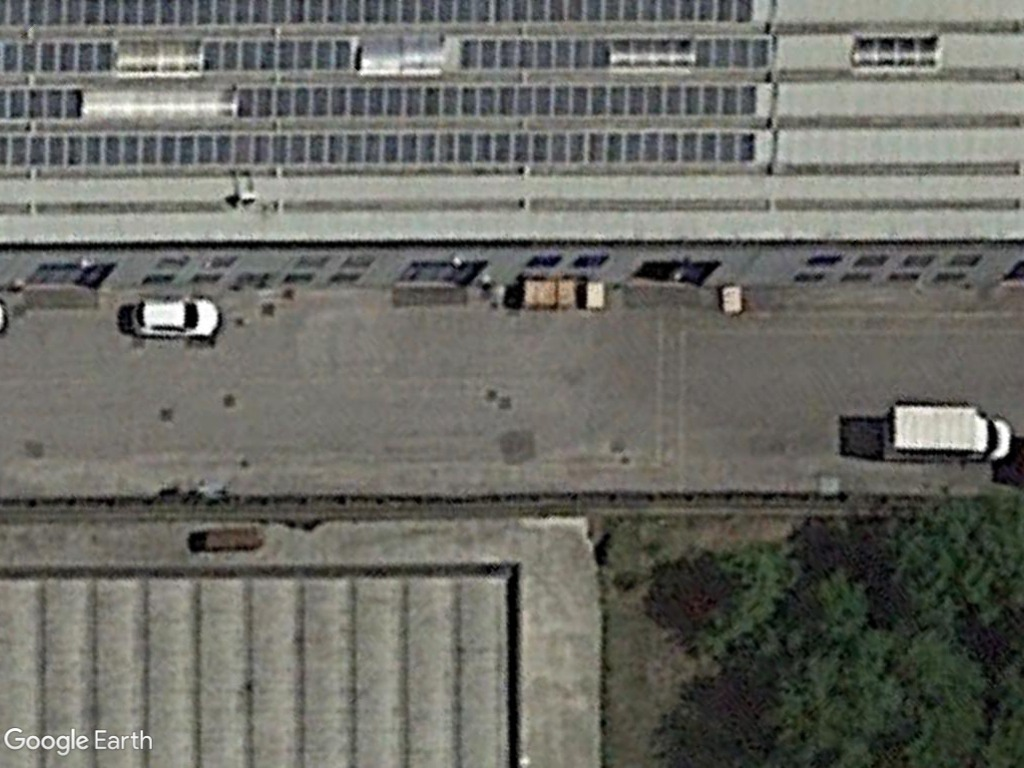car: (125, 294, 228, 343)
truck: (873, 397, 1018, 467)
